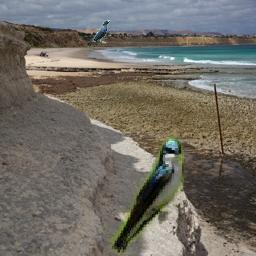Crow: (92, 21, 111, 46)
Swallow: (110, 137, 185, 256)
